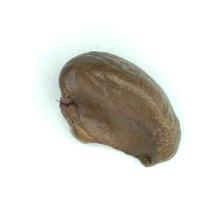NG: (67, 67, 156, 166)
